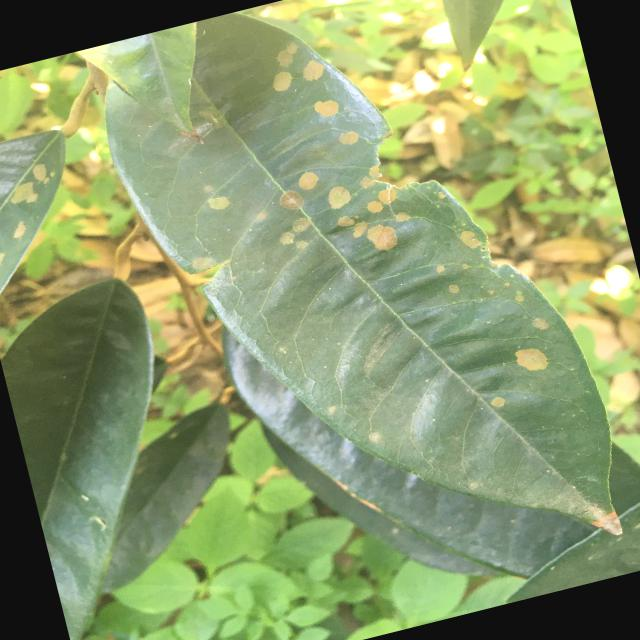Algal Leaf Spot: (78, 0, 639, 639)
